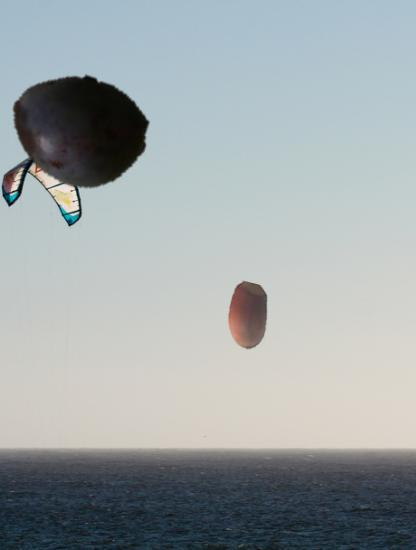Hazelnut: (214, 283, 282, 351)
Plum: (9, 61, 148, 200)
